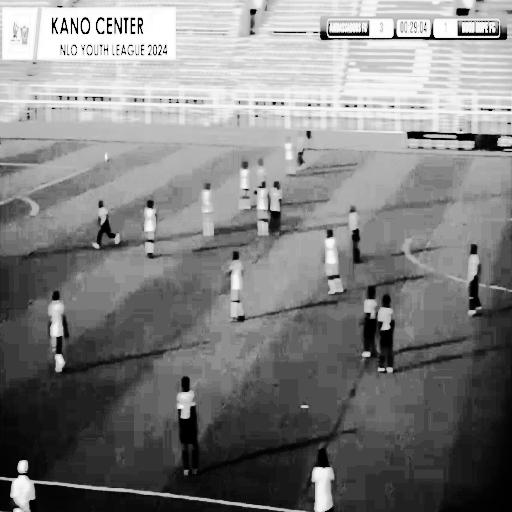ball: (101, 144, 113, 169)
referee: (347, 199, 366, 270)
team1: (359, 278, 397, 384), (171, 373, 206, 485), (86, 190, 128, 254), (460, 238, 486, 332), (296, 130, 312, 182), (273, 180, 282, 240)
team2: (44, 282, 73, 380), (320, 221, 349, 308), (224, 246, 250, 328), (200, 175, 217, 247), (142, 194, 160, 260), (237, 155, 252, 216), (282, 131, 298, 188), (256, 179, 270, 241)
